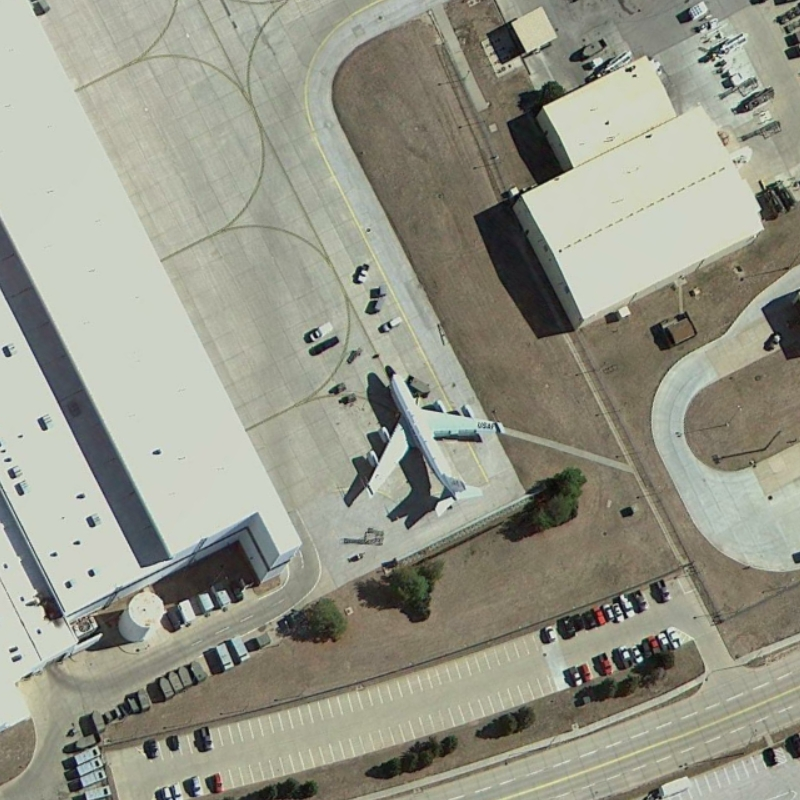A11: (336, 356, 510, 524)
